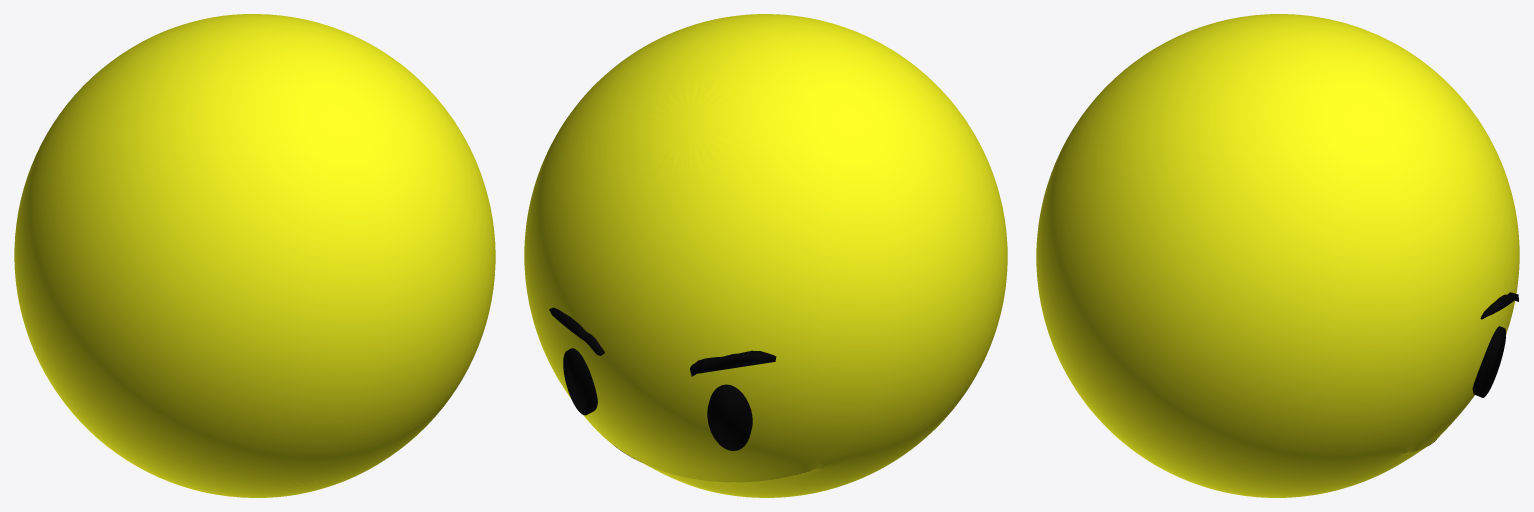
File: [93] lookDown.obj
The picture shows the model from 3 angles, left to right: view 1: azimuth 30°, elevation 25°; view 2: azimuth 150°, elevation 25°; view 3: azimuth 270°, elevation 25°; orthographic projection.
Visible parts, largest first — view 1: head_Sphere.002; view 2: head_Sphere.002, rightEye_Cylinder.001, leftEye_Cylinder.002, rightEyebrow_Cylinder.005, leftEyebrow_Cylinder.003; view 3: head_Sphere.002, leftEye_Cylinder.002.
Boxes of the visible parts, x1,y1,x2,y2 form: head_Sphere.002: [14, 14, 495, 497]; head_Sphere.002: [524, 14, 1007, 497]; rightEye_Cylinder.001: [707, 384, 752, 450]; leftEye_Cylinder.002: [563, 348, 597, 415]; rightEyebrow_Cylinder.005: [690, 350, 776, 376]; leftEyebrow_Cylinder.003: [549, 307, 604, 355]; head_Sphere.002: [1036, 14, 1519, 497]; leftEye_Cylinder.002: [1472, 326, 1506, 397].
Size of the model in its own units: 3.65 by 3.67 by 3.66.
